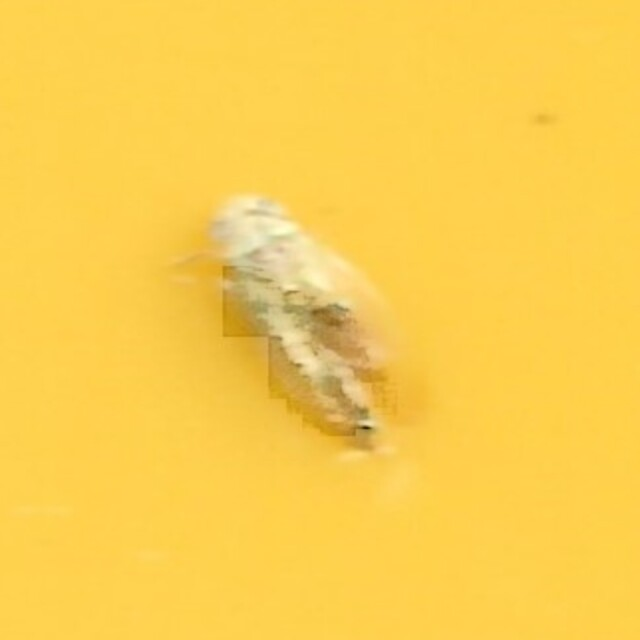Hemiptera: (199, 177, 441, 463)
